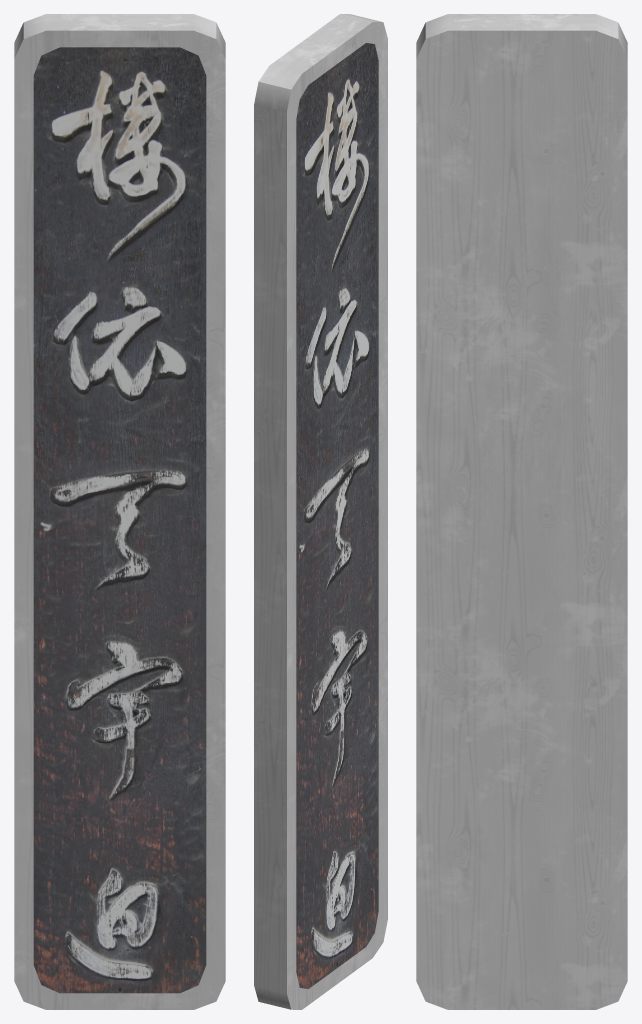
File: SM_R_Yuyotaek10.fbx
The picture shows the model from 3 angles, left to right: view 1: azimuth 90°, elevation 25°; view 2: azimuth 150°, elevation 25°; view 3: azimuth 270°, elevation 25°; orthographic projection. The views are drawn at different scales.
Visible parts, largest first — view 1: SM_R_Yuyotaek10; view 2: SM_R_Yuyotaek10; view 3: SM_R_Yuyotaek10.
Boxes of the visible parts, left/top/right/bottom form: SM_R_Yuyotaek10: left=14, top=14, right=225, bottom=1009; SM_R_Yuyotaek10: left=254, top=14, right=387, bottom=1009; SM_R_Yuyotaek10: left=416, top=14, right=627, bottom=1009.
Size of the model in its own units: 3.97 by 21.22 by 108.
1 material, 1 textured.
